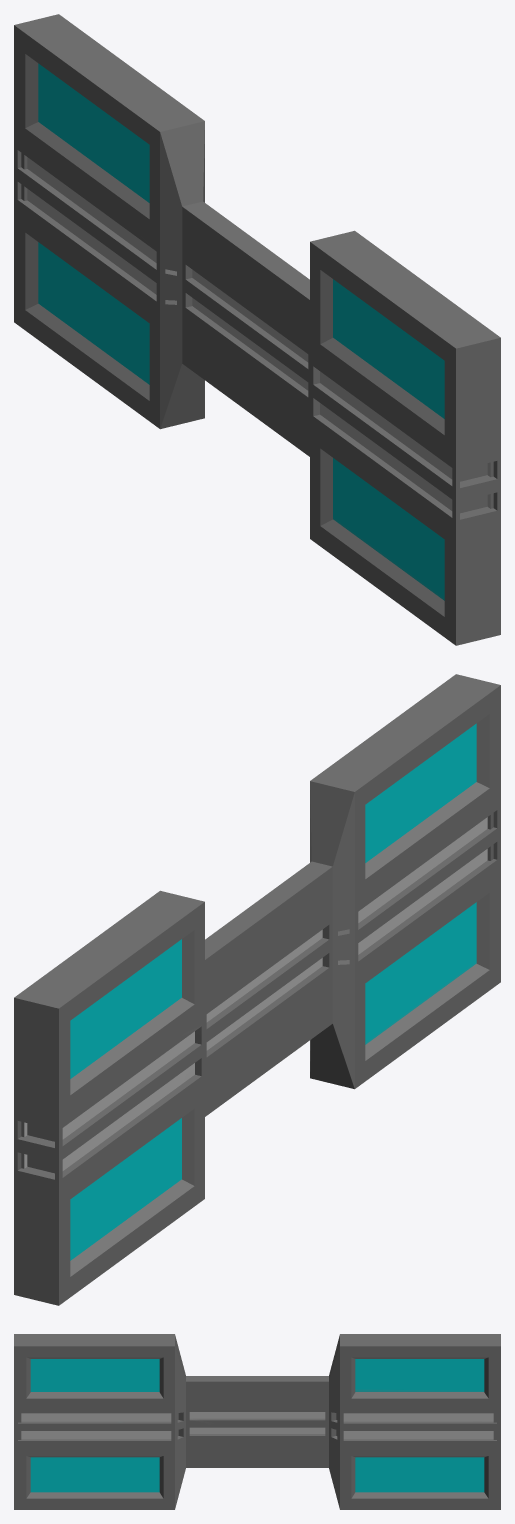
The picture shows the model from 3 angles, top to bottom: view 1: azimuth 30°, elevation 25°; view 2: azimuth 150°, elevation 25°; view 3: azimuth 270°, elevation 25°; orthographic projection. The views are drawn at different scales.
Parts seen in each view (by area): view 1: SM_B_Part3; view 2: SM_B_Part3; view 3: SM_B_Part3.
Part boxes in pixels (x1,y1,x2,y2): SM_B_Part3: (14,14,500,645); SM_B_Part3: (14,674,500,1305); SM_B_Part3: (14,1334,500,1509).
Bounding box in the file's own units: 23.81 × 406 × 151.
